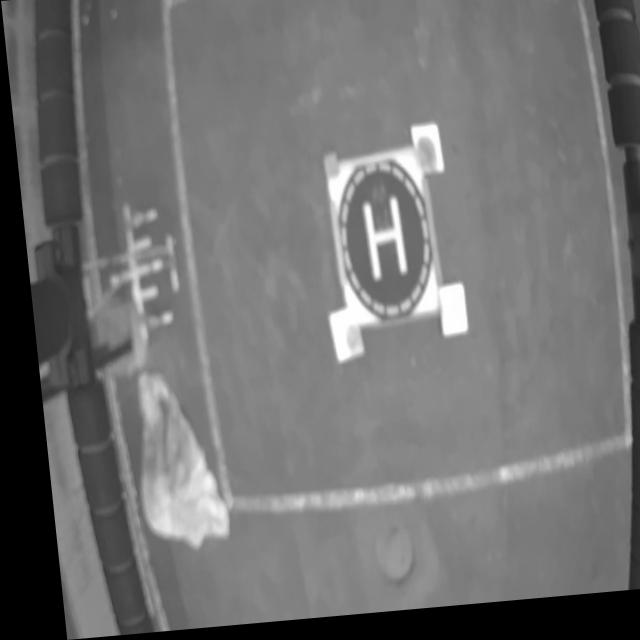Helipad: (357, 198, 403, 288)
